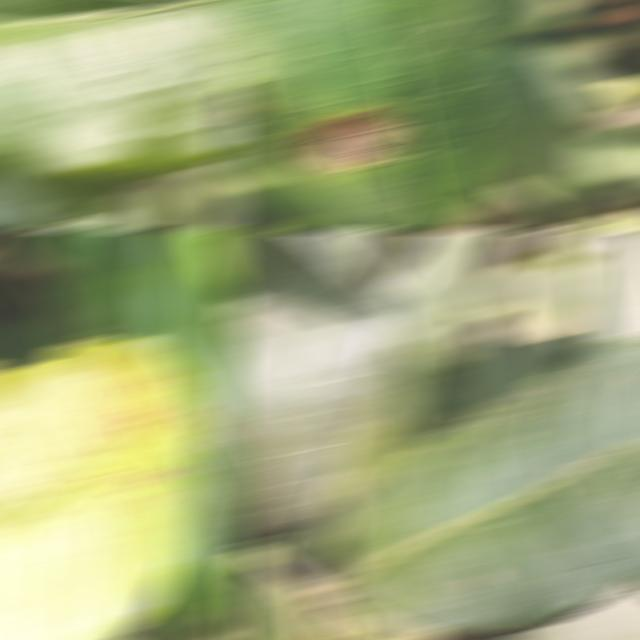Leaf: (324, 338, 640, 630), (221, 2, 502, 228), (0, 341, 198, 638), (221, 233, 404, 533), (0, 2, 239, 176), (337, 232, 479, 500), (475, 42, 600, 220), (134, 232, 239, 435), (165, 417, 239, 638), (458, 260, 592, 339), (0, 159, 140, 228), (29, 232, 134, 323), (565, 232, 640, 347), (226, 553, 313, 638), (480, 310, 547, 403), (37, 191, 154, 228), (444, 232, 507, 291), (532, 232, 602, 258)
